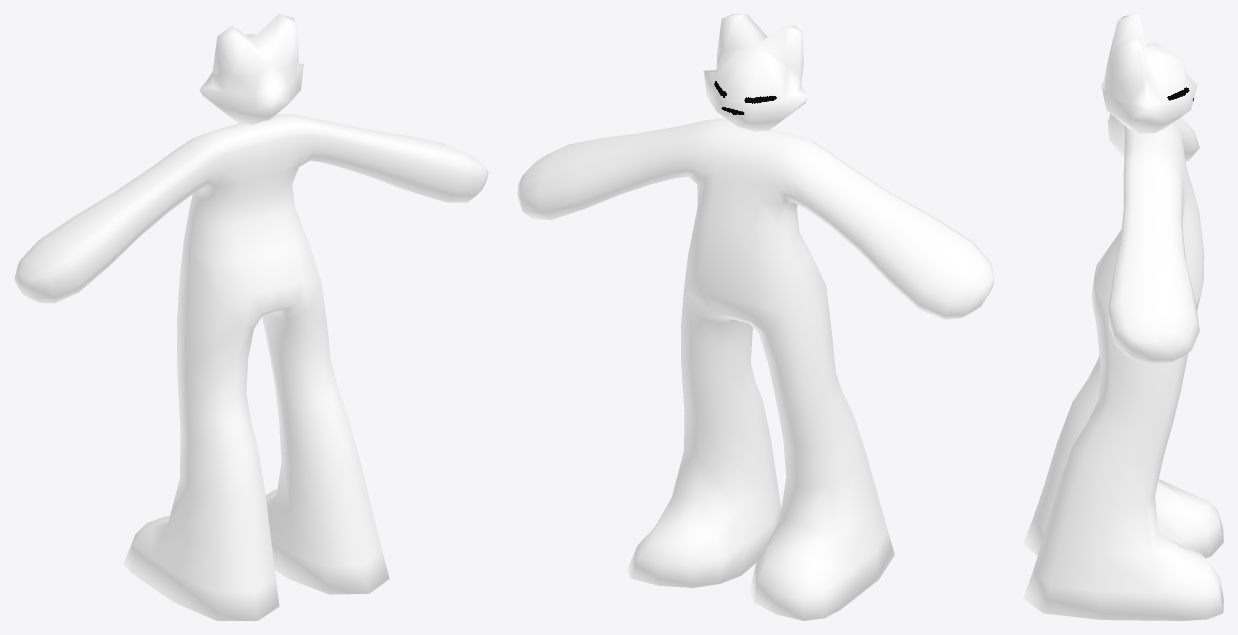
File: cat.glb
3 views of the same model, side by side, from view 1: azimuth 30°, elevation 25°; view 2: azimuth 150°, elevation 25°; view 3: azimuth 270°, elevation 25° (orthographic).
Parts seen in each view (by area): view 1: Sphere; view 2: Sphere; view 3: Sphere.
Boxes of the visible parts, left/top/right/bottom form: Sphere: left=14, top=14, right=488, bottom=620; Sphere: left=517, top=14, right=994, bottom=620; Sphere: left=1023, top=14, right=1223, bottom=620.
Size of the model in its own units: 9.53 by 10.73 by 3.58.
1 material, 1 textured.
